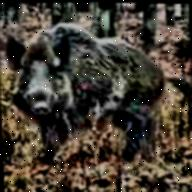boar: (8, 18, 191, 161)
